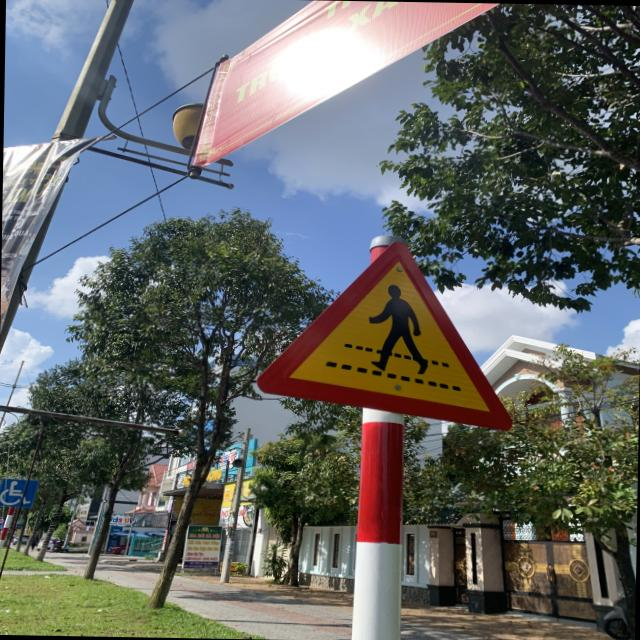Duong_Nguoi_Di_Bo_Sang_Ngang: (252, 239, 514, 432)
